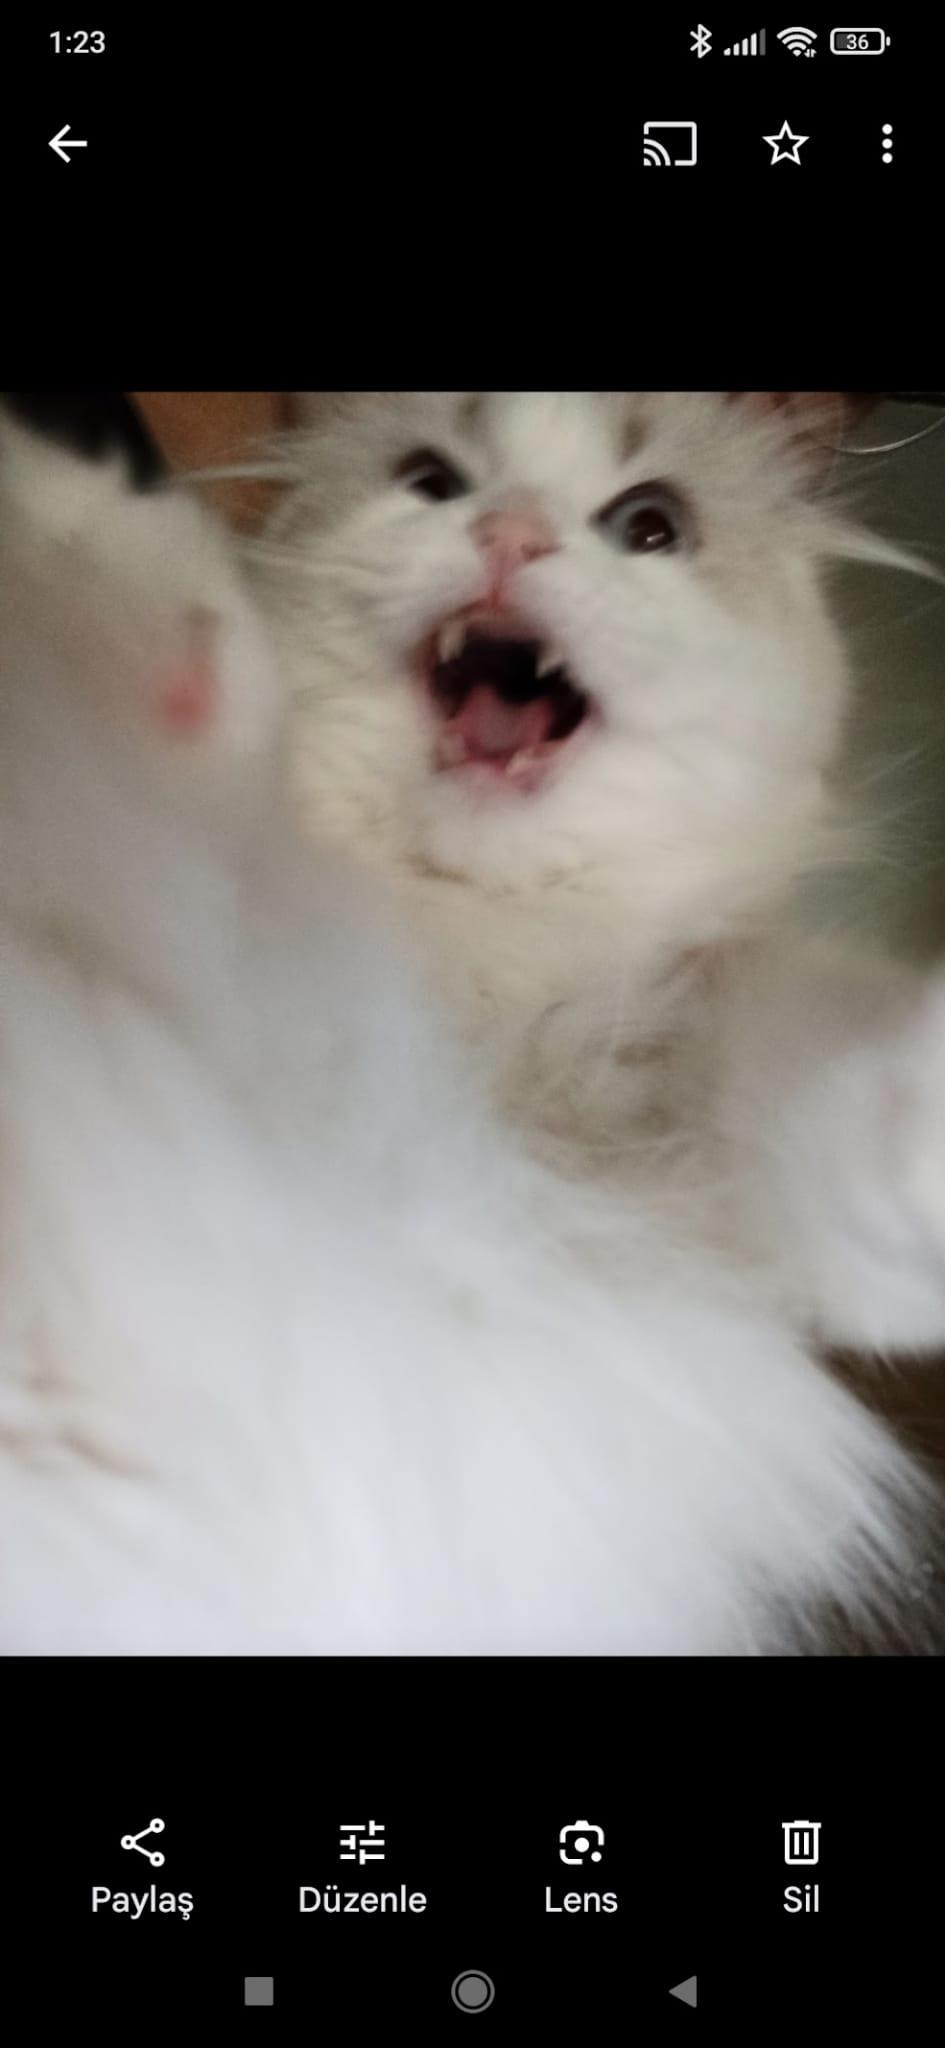kedo: (10, 391, 937, 1654)
